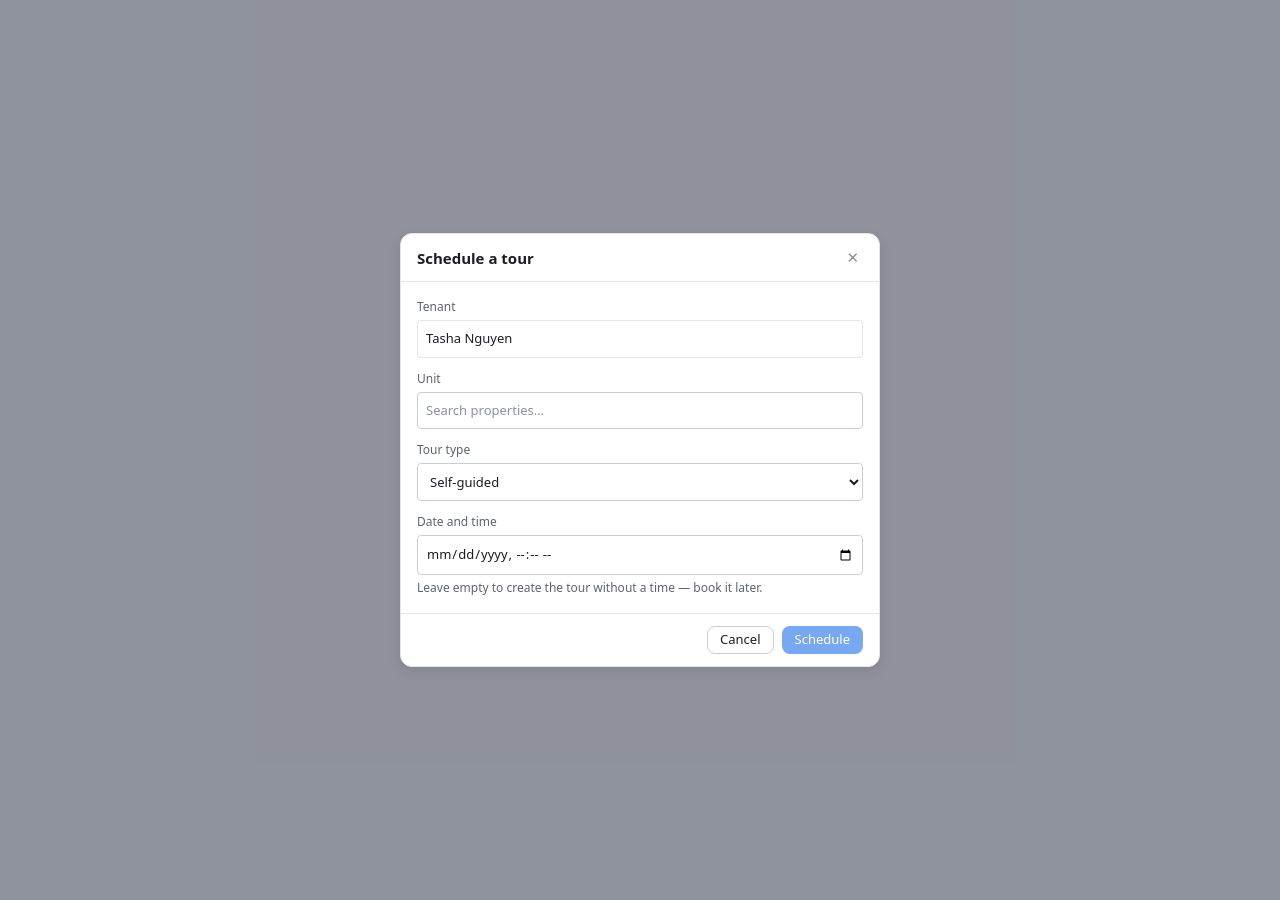
Test: ScheduleTourForm › Schedule is disabled until both a tenant and a unit are resolved
expect the dialog "Schedule a tour" is shown: met, box [400,233,880,667]
expect the button "Schedule" is disabled: met, box [782,626,863,654]
Type "Sycamore" into the dropdown named "Unit". click: [640, 411]
box: [417,392,863,429]
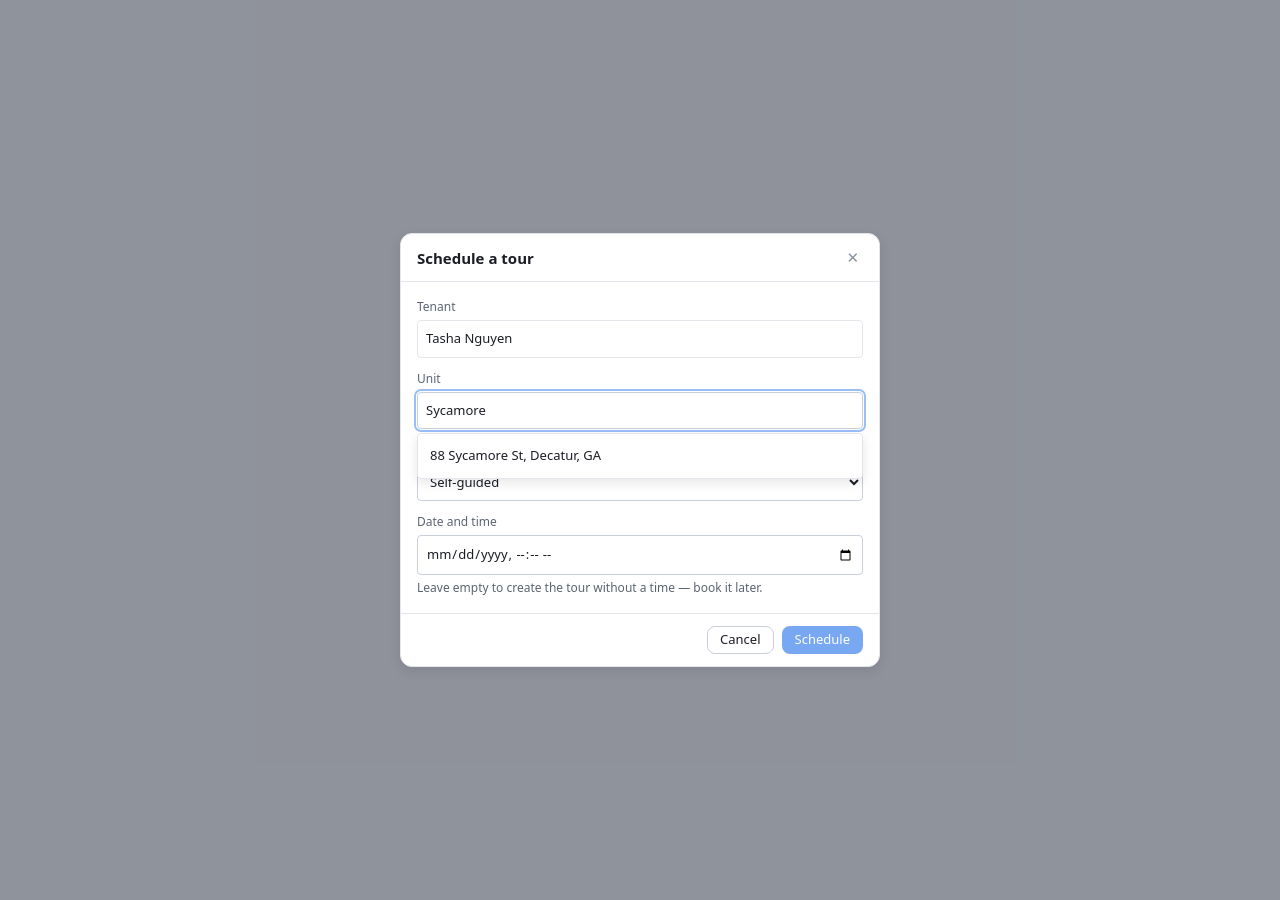
Click the option "88 Sycamore St, Decatur, GA". click: [516, 455]
box: [430,446,601,464]
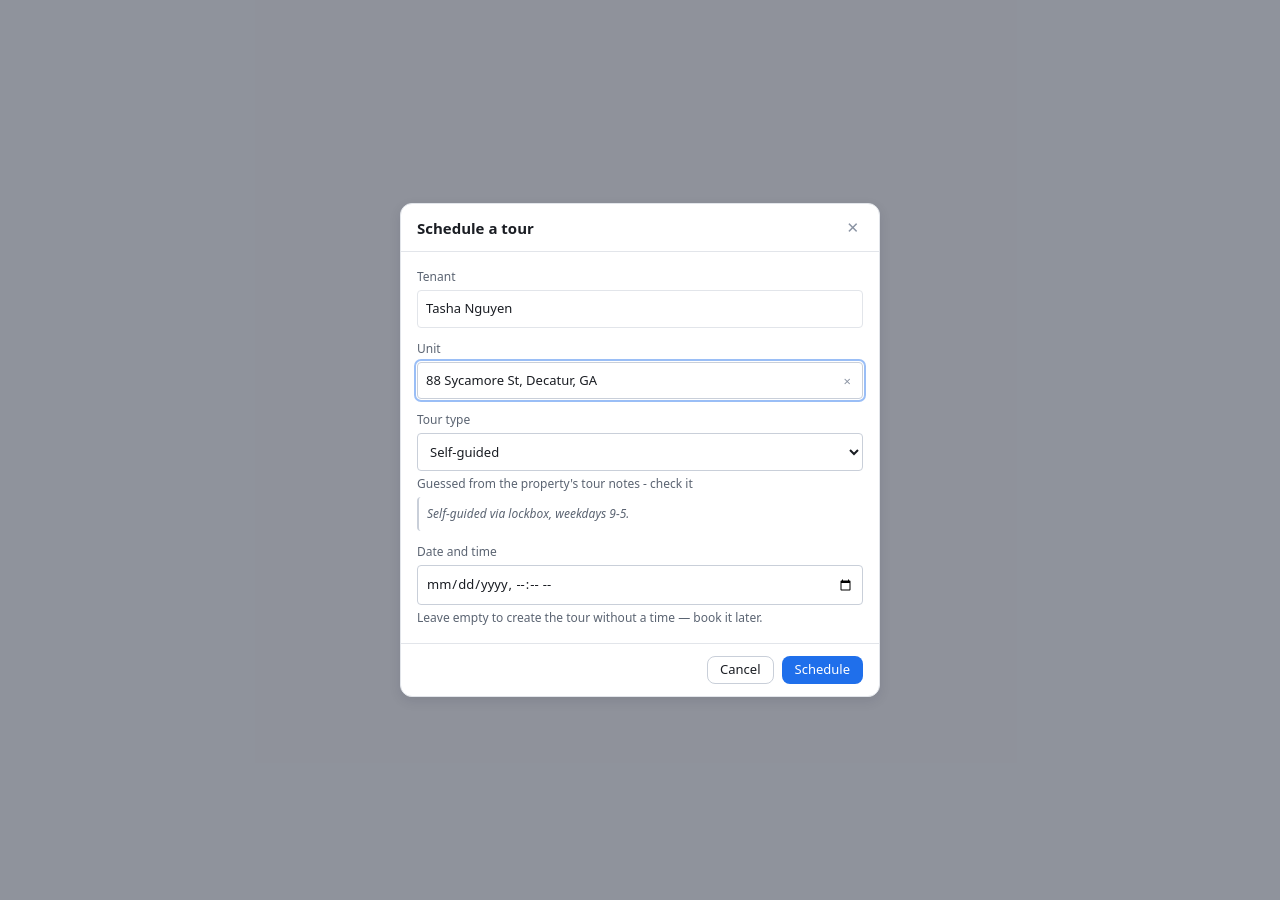
expect the button "Schedule" is enabled: met, box [782,656,863,684]
